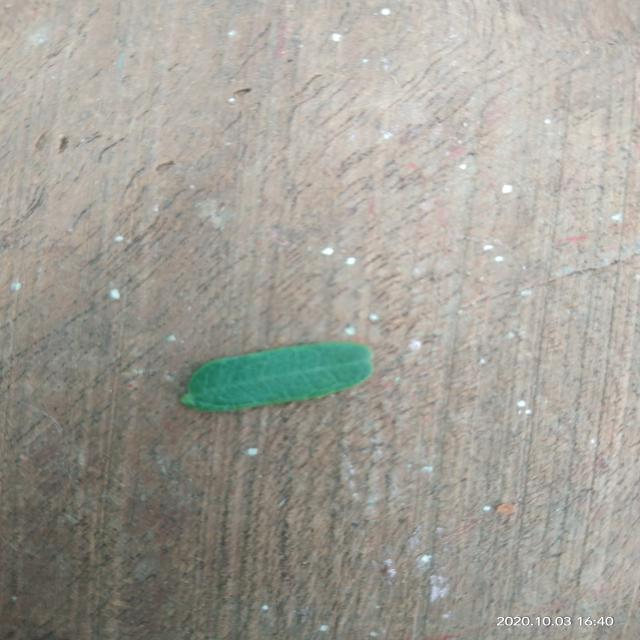tamarind: (182, 342, 373, 411)
